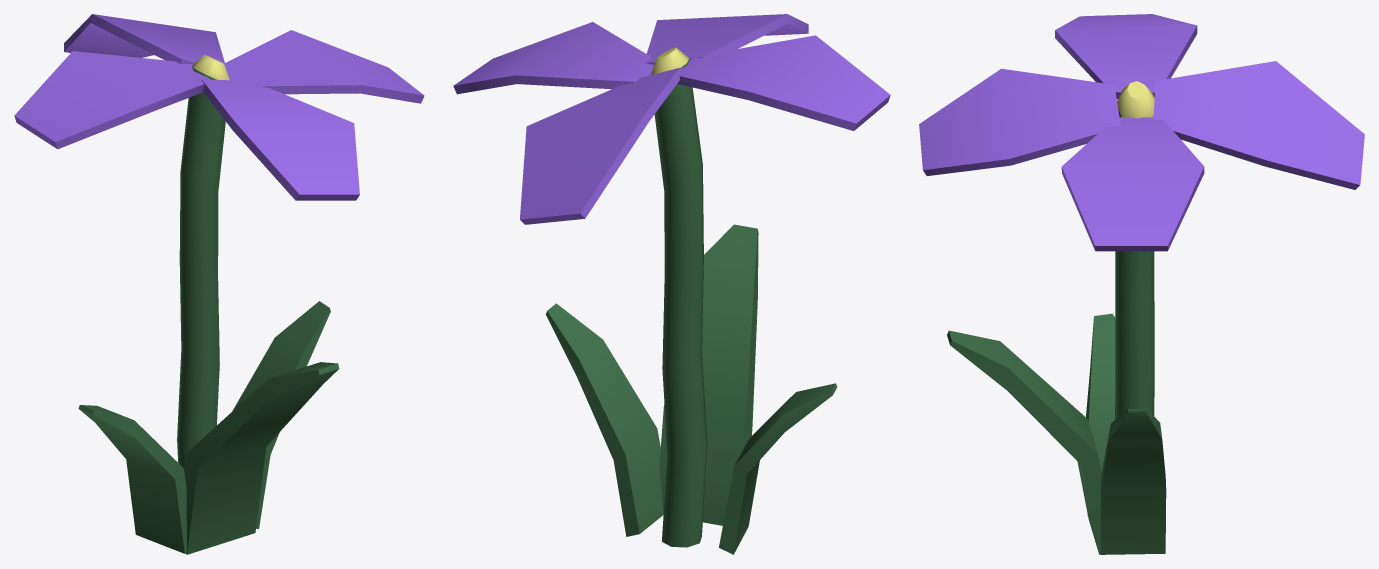
Rendered from Flower_Two.fbx.
The picture shows the model from 3 angles, left to right: view 1: azimuth 30°, elevation 25°; view 2: azimuth 150°, elevation 25°; view 3: azimuth 270°, elevation 25°; orthographic projection. The views are drawn at different scales.
Parts seen in each view (by area): view 1: Flower_Two; view 2: Flower_Two; view 3: Flower_Two.
Part boxes in pixels (bbox=[...]): Flower_Two: bbox=[14, 14, 424, 554]; Flower_Two: bbox=[453, 14, 890, 554]; Flower_Two: bbox=[919, 14, 1364, 554].
Size of the model in its own units: 48.68 by 58.42 by 50.37.
